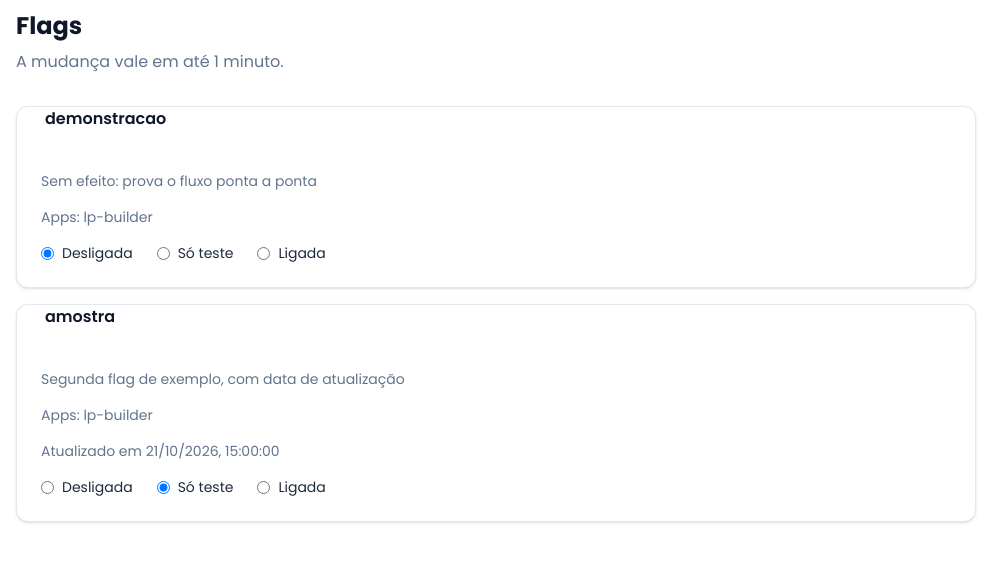
Test: Página de flags › usa a flag que o PUT devolve: a data aparece sem recarregar
Check: the element "demonstracao" is shown, box [41,107,326,263]
Step 1. Click the radio button labelled "Só teste" below "Sem efeito: prova o fluxo ponta a ponta" → [163, 253], box [157,246,170,260]
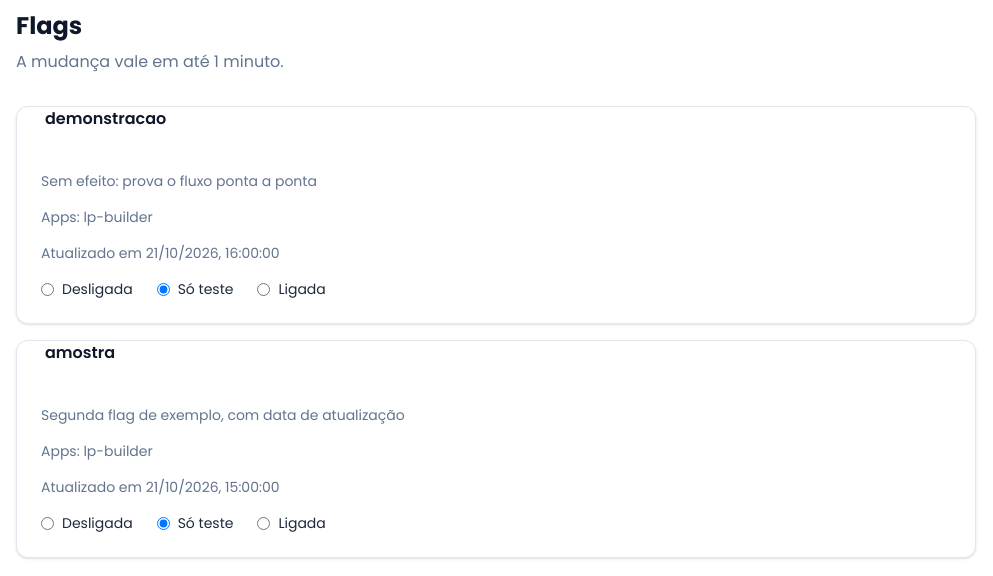
Check: the text "Atualizado em 21/10/2026, 16:00:00" is shown, box [41,243,280,263]
